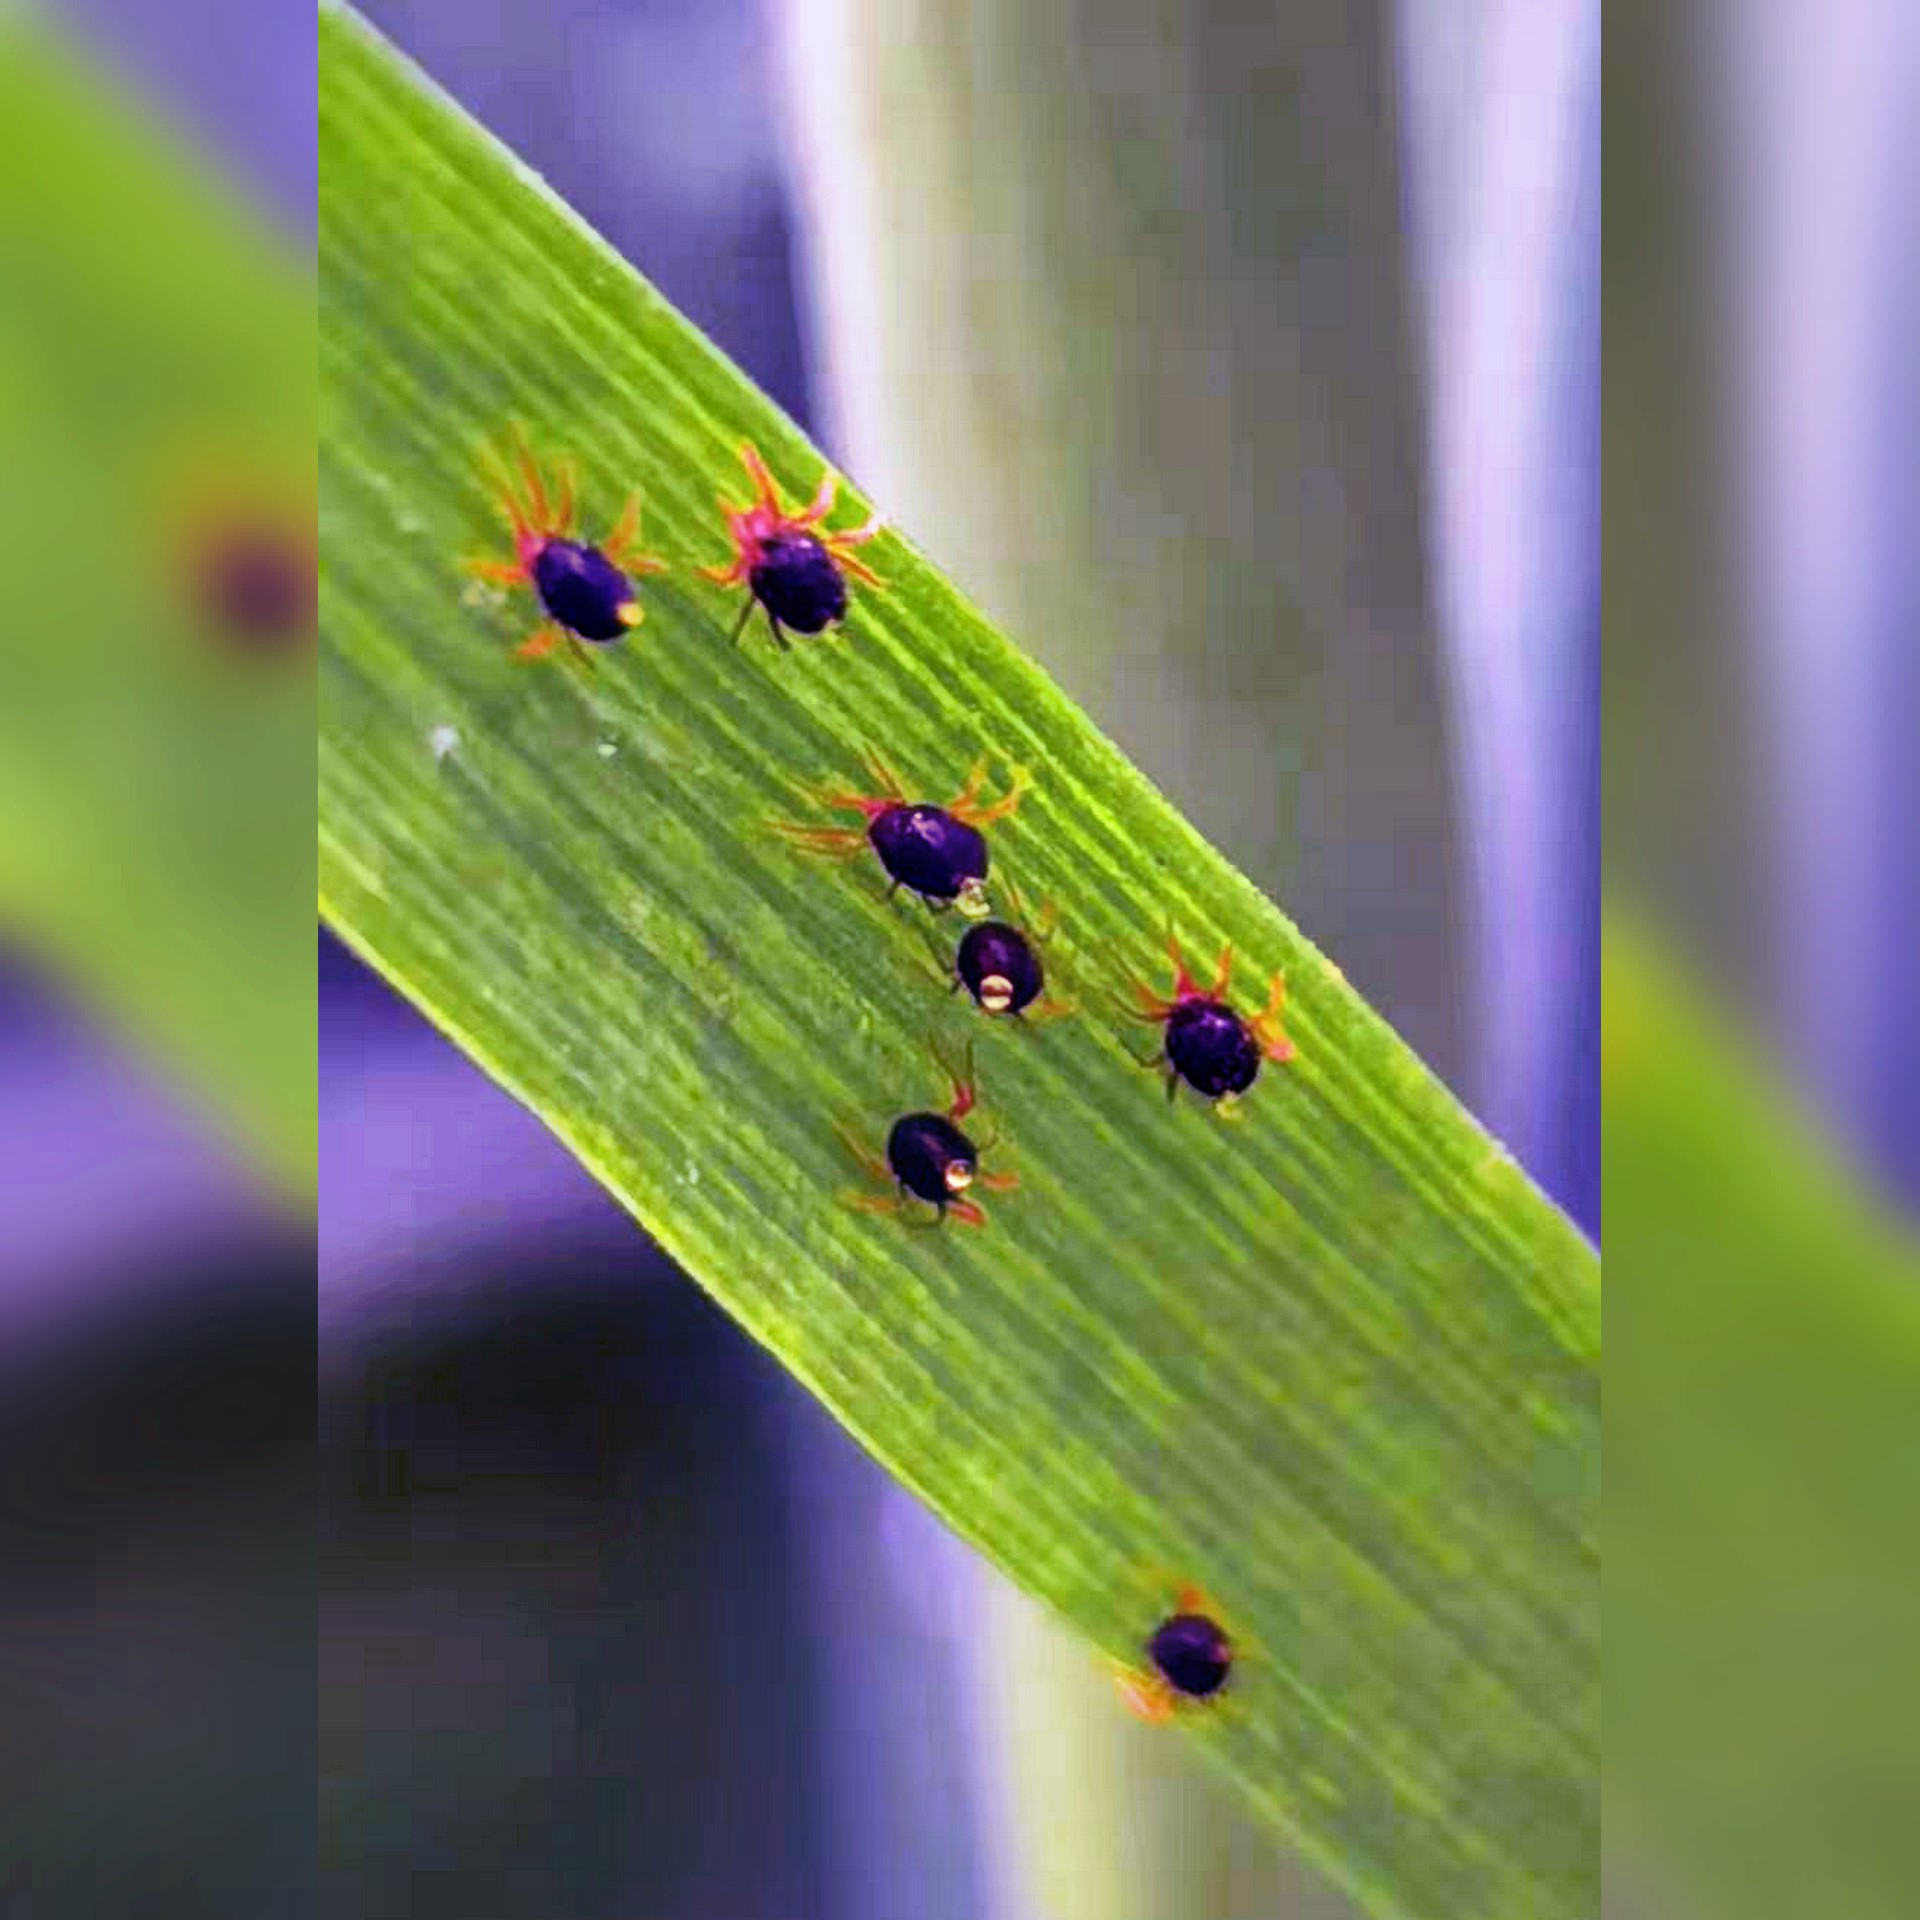Wheat Red Spider: (728, 745, 1336, 1257), (454, 411, 925, 710)
